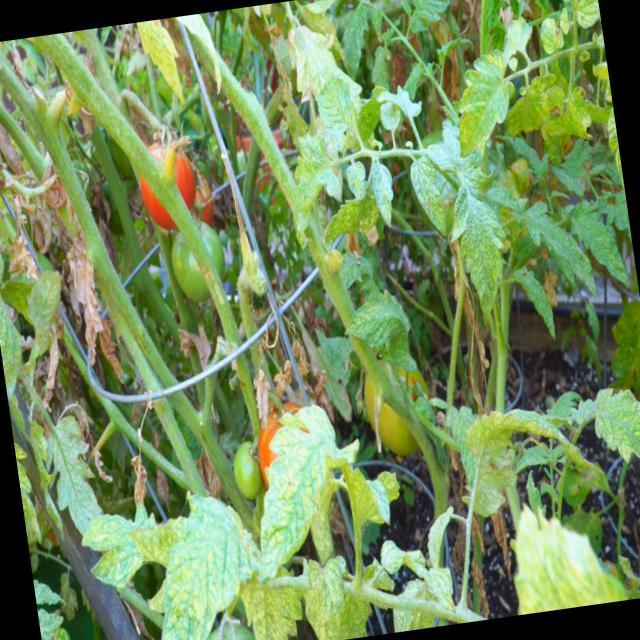Tomato spider mites leaf: (234, 394, 379, 588), (132, 479, 271, 640), (462, 394, 606, 495), (442, 175, 518, 328), (75, 495, 169, 596), (38, 412, 108, 540), (280, 126, 351, 252), (522, 193, 598, 310), (444, 51, 518, 162), (378, 530, 458, 624), (567, 194, 633, 296), (586, 377, 640, 490), (296, 544, 359, 640), (316, 177, 386, 259), (335, 282, 412, 356), (235, 564, 307, 640), (21, 266, 72, 344), (512, 260, 558, 346), (407, 154, 449, 243), (443, 402, 485, 489), (334, 4, 378, 83), (312, 72, 362, 136), (422, 501, 462, 570), (368, 156, 400, 232), (549, 0, 602, 33), (410, 0, 459, 25), (536, 16, 566, 56), (343, 157, 370, 201), (380, 98, 402, 133)
